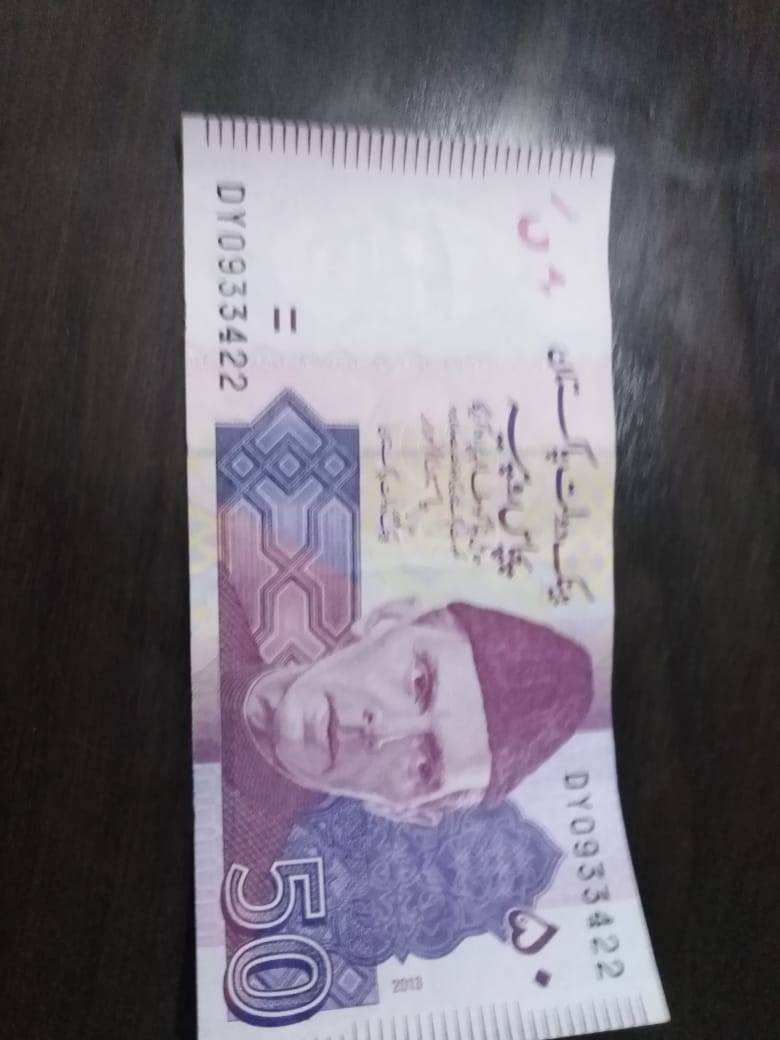50 rupee: (171, 95, 680, 1040)
